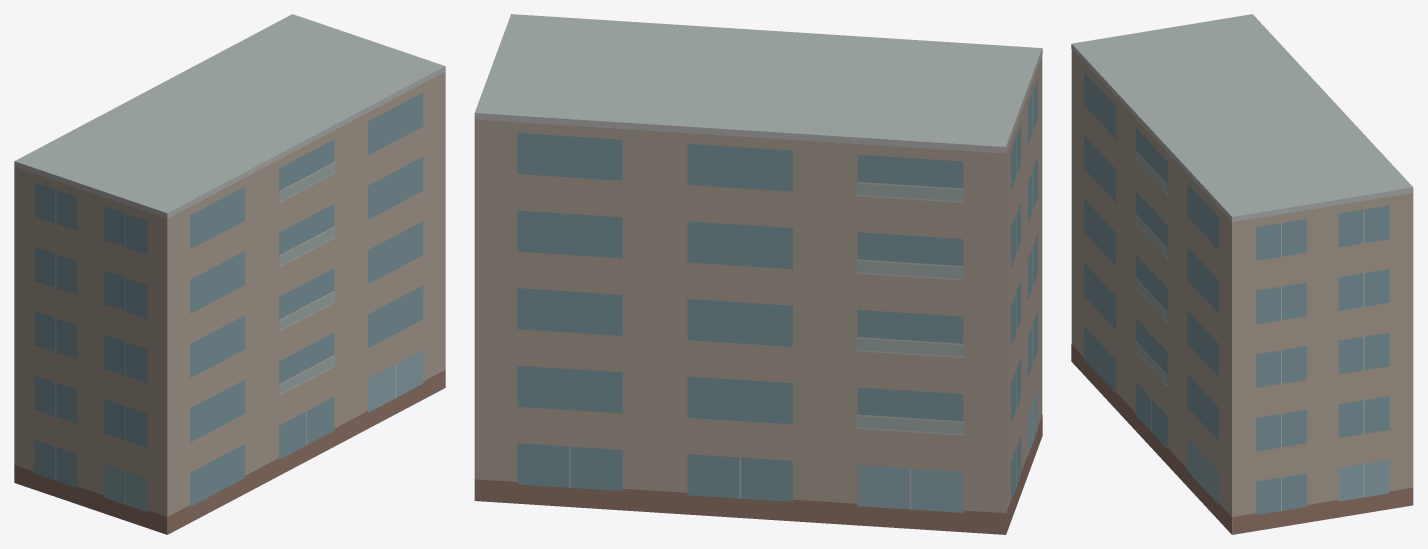
The model's file is survey-upis-32992164.glb.
The picture shows the model from 3 angles, left to right: view 1: azimuth 30°, elevation 25°; view 2: azimuth 150°, elevation 25°; view 3: azimuth 270°, elevation 25°; orthographic projection. The views are drawn at different scales.
Visible parts, largest first — view 1: survey-upis-32992164.tmp; view 2: survey-upis-32992164.tmp; view 3: survey-upis-32992164.tmp.
Part boxes in pixels (x1,y1,x2,y2): survey-upis-32992164.tmp: (14, 14, 445, 534); survey-upis-32992164.tmp: (474, 14, 1042, 534); survey-upis-32992164.tmp: (1071, 14, 1413, 534).
Bounding box in the file's own units: 19.73 × 14.4 × 14.04.
